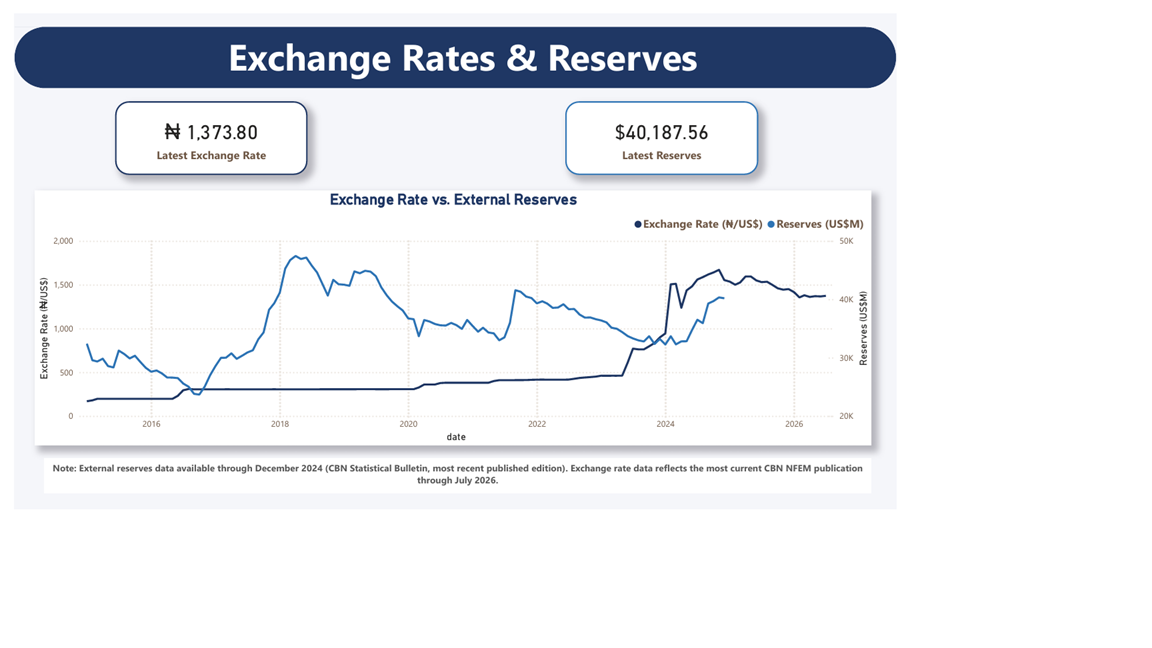

Layout of this report page (visuals, bound fields, positions):
{"tool":"powerbi","page":{"name":"Exchange Rates & Reserves","canvas":[1280,720],"ordinal":2},"visuals":[{"type":"card","fields":{"Values":["cbn_exchange_rate_merged.Latest Exchange Rate"]},"box":[145.5,126.6,279.7,107.7],"z":0},{"type":"card","fields":{"Values":["cbn_reserves_clean.Latest Reserves"]},"box":[799.4,126.6,279.7,107.7],"z":1000},{"type":"lineChart","title":"Exchange Rate vs. External Reserves","fields":{"Y":["Avg(cbn_exchange_rate_merged.exchange_rate)"],"Category":["cbn_exchange_rate_merged.date"],"Y2":["Avg(cbn_reserves_clean.external_reserves_usd_million)"]},"box":[30.2,257,1213.2,370.4],"z":2000},{"type":"textbox","box":[43.5,646.3,1200,51],"z":3000},{"type":"shape","box":[0,18.9,1279.4,88.8],"z":4000},{"type":"textbox","box":[43.5,18.9,1200,88.8],"z":5000}]}

Visuals, with their boxes in screenshot pixels (x1, y1, x2, y2), scaled from the page's 1280x720 canvas onto the 1152x648 screenshot:
card - cbn_exchange_rate_merged.Latest Exchange Rate: Rect(131, 114, 383, 211)
card - cbn_reserves_clean.Latest Reserves: Rect(719, 114, 971, 211)
"Exchange Rate vs. External Reserves" lineChart: Rect(27, 231, 1119, 565)
textbox: Rect(39, 582, 1119, 628)
shape: Rect(0, 17, 1151, 97)
textbox: Rect(39, 17, 1119, 97)
